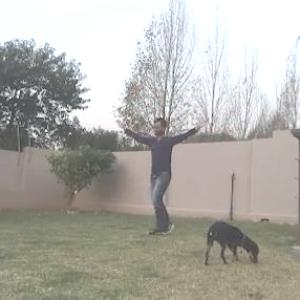takeoff: (129, 114, 245, 246)
